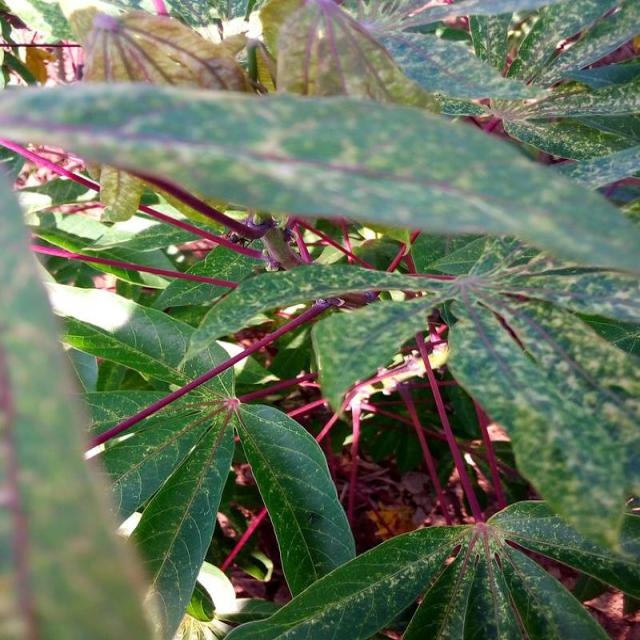cassava leaf: (1, 2, 638, 637), (0, 78, 639, 276)
